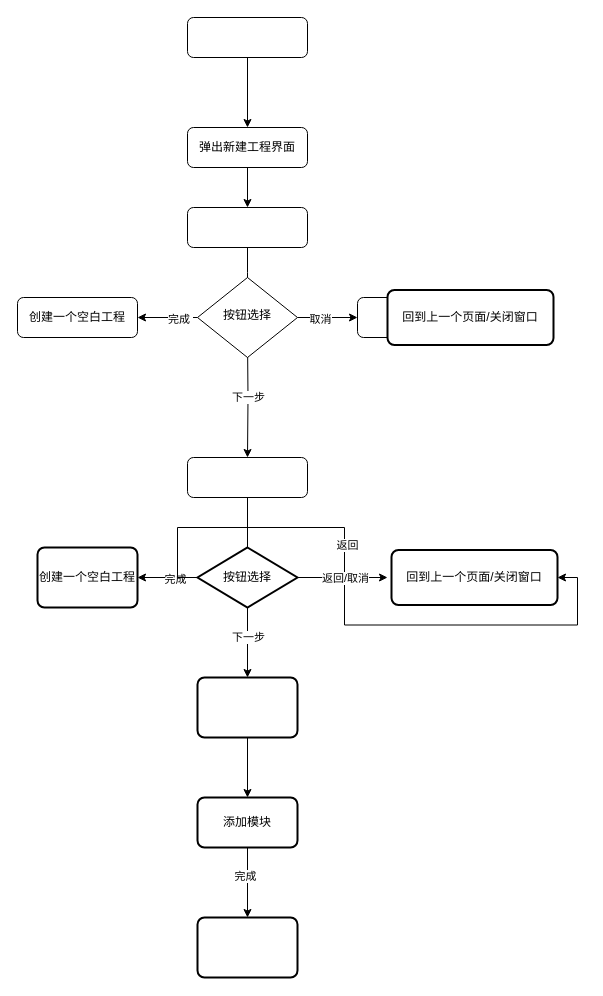
The diagram is 603 pixels wide and 996 high, and some of its shapes have lost their labels. Each missing label, with the centre of its shape:
"创建带有模块的工程" goes at point (247, 947).
"展示所有可用模块" goes at point (247, 707).
"点击新建配置工程" goes at point (247, 37).
"输入ECU ID，选择芯片" goes at point (247, 477).
"输入工程名称" goes at point (247, 227).
